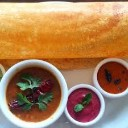dosa: (1, 1, 128, 61)
